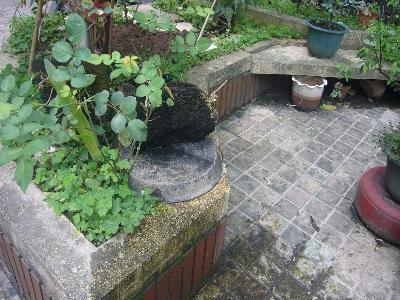bowl: (290, 75, 328, 112)
plate: (125, 134, 225, 205)
